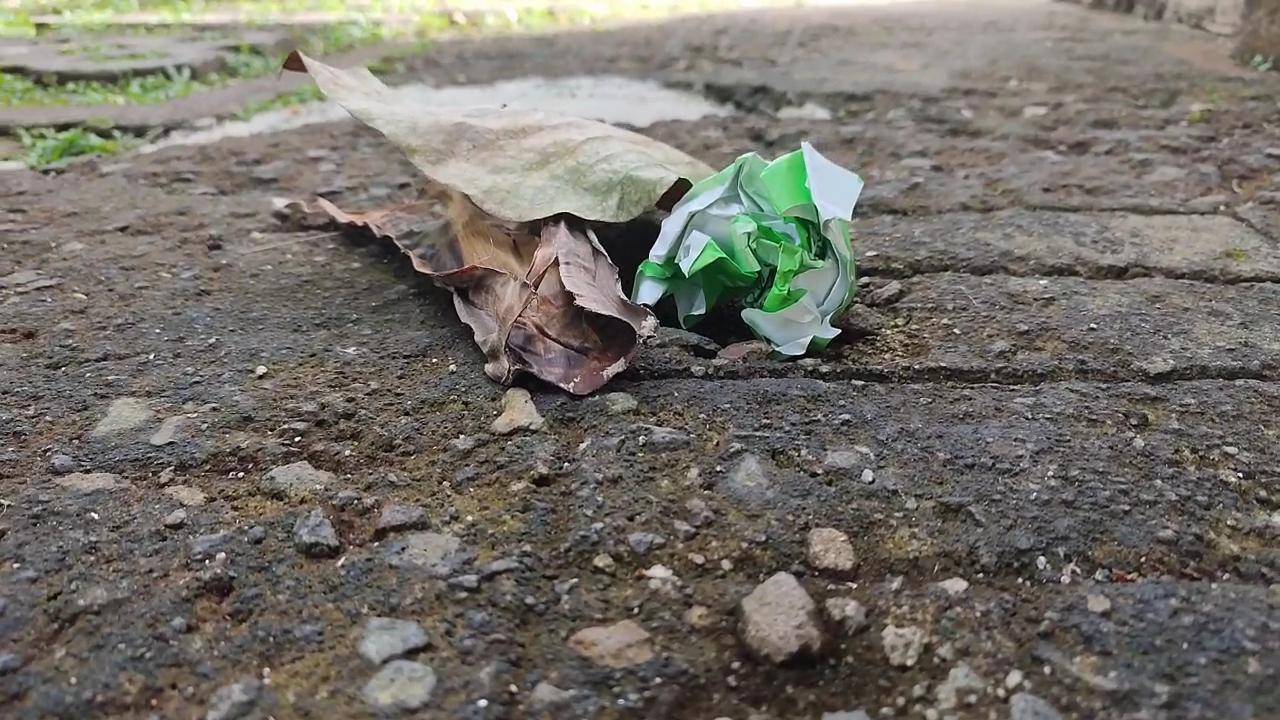Paper: (633, 147, 868, 370)
